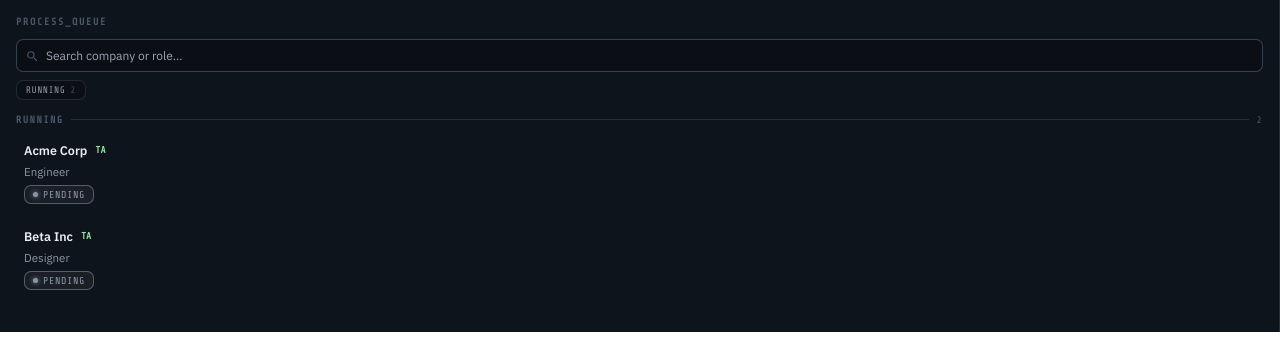
Scenario: JobList › filters jobs by role
In the field with placeholder "Search company or role…": {"x": 646, "y": 56} [38,40,1253,71], type "design"
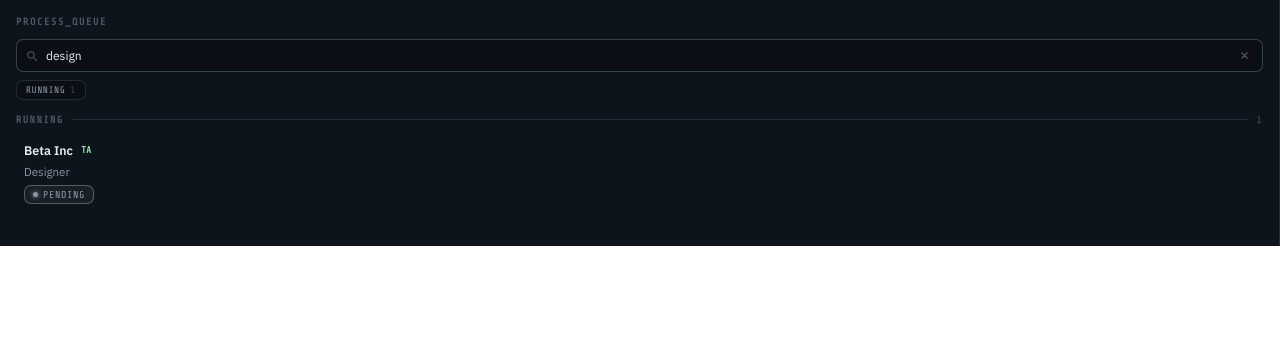
Check: the text "Beta Inc" is shown, box [24,142,73,158]
Check: the button "Acme Corp" is gone
